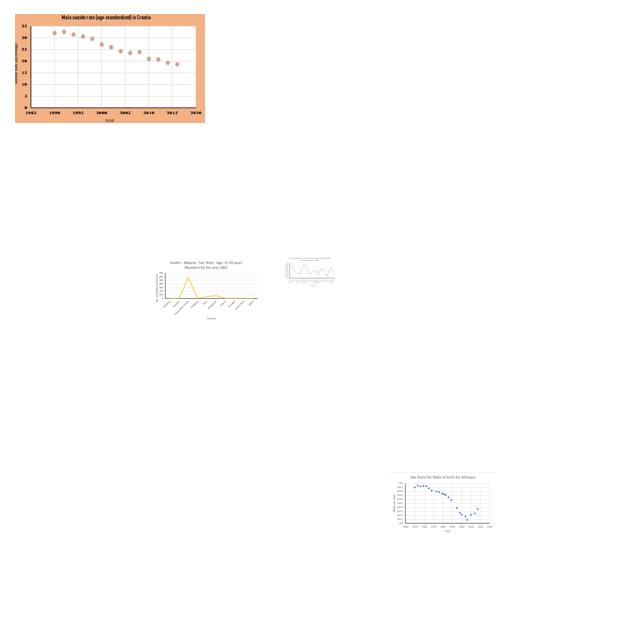Graph: (15, 14, 205, 123), (389, 472, 495, 536), (153, 260, 259, 322), (283, 256, 336, 287)
